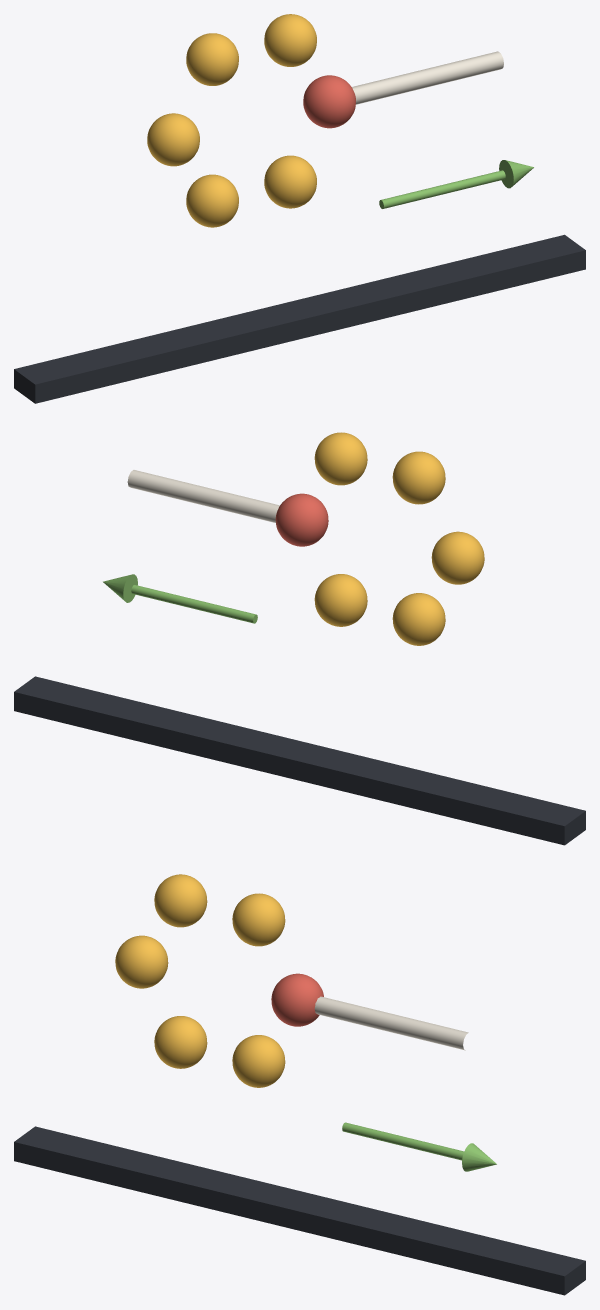
The model's file is chem-biolink-carbohydrate.glb.
3 views of the same model, one above another, from view 1: azimuth 30°, elevation 25°; view 2: azimuth 150°, elevation 25°; view 3: azimuth 330°, elevation 25° (orthographic).
Visible parts, largest first — view 1: biochemistry-bench, glycosidic-link-chain, sugar-ring-atom-4, sugar-ring-atom-0, sugar-ring-atom-3, sugar-ring-atom-2, sugar-ring-atom-1, sugar-ring-atom-5, energy-path-cell-work-shaft, energy-path-cell-work-head; view 2: biochemistry-bench, glycosidic-link-chain, sugar-ring-atom-2, sugar-ring-atom-1, sugar-ring-atom-3, sugar-ring-atom-0, sugar-ring-atom-5, sugar-ring-atom-4, energy-path-cell-work-shaft, energy-path-cell-work-head; view 3: biochemistry-bench, glycosidic-link-chain, sugar-ring-atom-1, sugar-ring-atom-2, sugar-ring-atom-5, sugar-ring-atom-3, sugar-ring-atom-4, sugar-ring-atom-0, energy-path-cell-work-shaft, energy-path-cell-work-head.
Boxes of the visible parts, <box> form: biochemistry-bench: <box>14,234,585,403</box>; glycosidic-link-chain: <box>352,51,503,104</box>; sugar-ring-atom-4: <box>186,174,238,227</box>; sugar-ring-atom-0: <box>303,75,355,128</box>; sugar-ring-atom-3: <box>147,113,199,166</box>; sugar-ring-atom-2: <box>186,33,238,85</box>; sugar-ring-atom-1: <box>264,14,316,66</box>; sugar-ring-atom-5: <box>264,155,316,208</box>; energy-path-cell-work-shaft: <box>379,170,505,208</box>; energy-path-cell-work-head: <box>499,160,533,188</box>; biochemistry-bench: <box>14,676,585,845</box>; glycosidic-link-chain: <box>127,470,279,522</box>; sugar-ring-atom-2: <box>392,451,445,504</box>; sugar-ring-atom-1: <box>314,432,367,485</box>; sugar-ring-atom-3: <box>431,531,484,584</box>; sugar-ring-atom-0: <box>275,493,328,546</box>; sugar-ring-atom-5: <box>314,574,367,626</box>; sugar-ring-atom-4: <box>392,593,445,645</box>; energy-path-cell-work-shaft: <box>131,585,257,623</box>; energy-path-cell-work-head: <box>103,574,137,602</box>; biochemistry-bench: <box>14,1126,585,1295</box>; glycosidic-link-chain: <box>314,996,468,1050</box>; sugar-ring-atom-1: <box>232,893,285,946</box>; sugar-ring-atom-2: <box>154,874,207,927</box>; sugar-ring-atom-5: <box>232,1035,285,1087</box>; sugar-ring-atom-3: <box>115,935,168,988</box>; sugar-ring-atom-4: <box>154,1016,207,1068</box>; sugar-ring-atom-0: <box>271,973,323,1026</box>; energy-path-cell-work-shaft: <box>342,1122,464,1160</box>; energy-path-cell-work-head: <box>462,1143,496,1171</box>.
Size of what is drawn, in the model's own units: 2.4 by 1.37 by 0.3.
